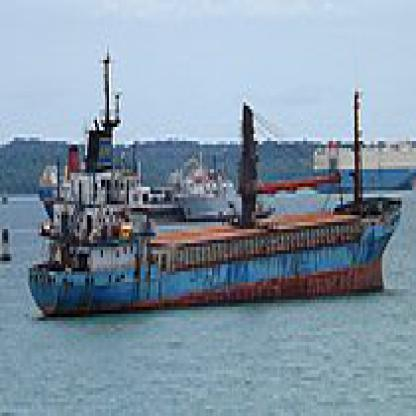Container Ship: (26, 43, 403, 317)
